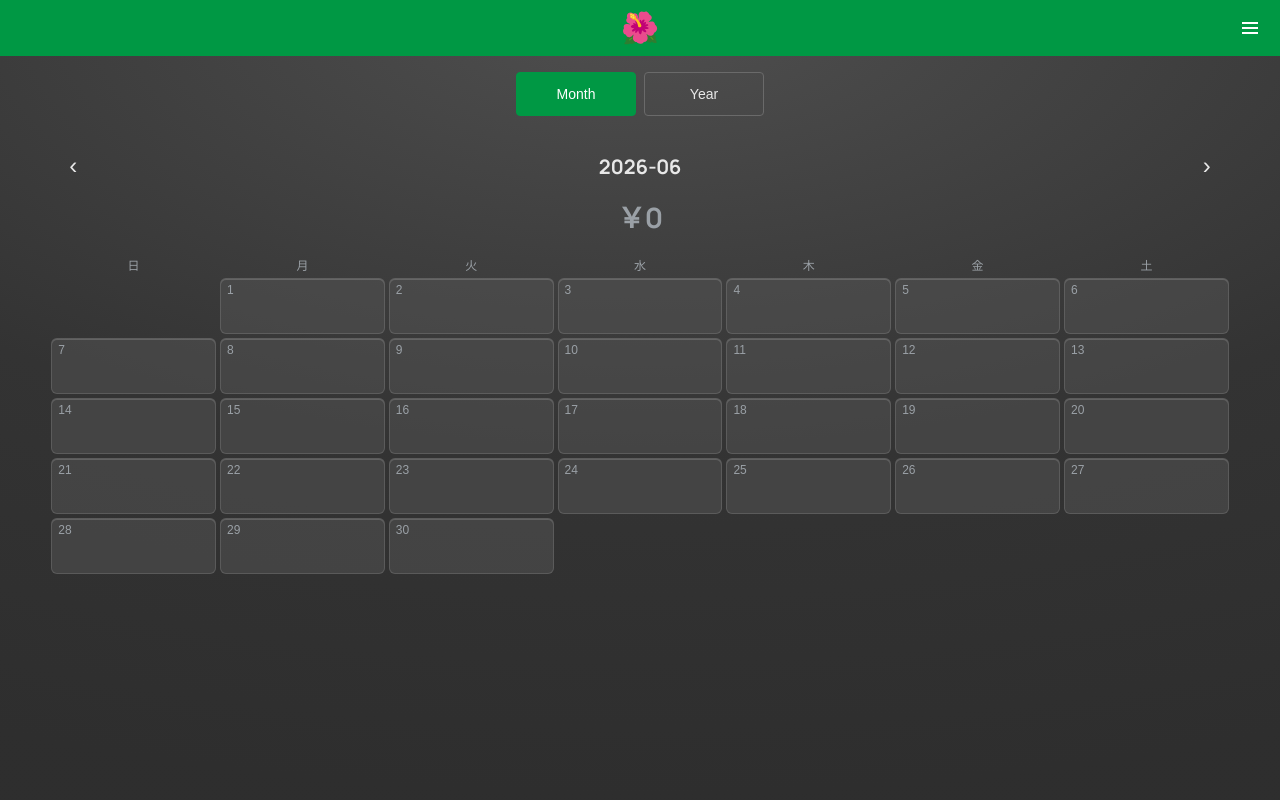
カレンダー（月）ビュー › 次の月・前の月でその月へ移動する
This screenshot has width=1280, height=800.
Click the button named "次の月".
click(1207, 166)  # box x1=1185 y1=144 x2=1229 y2=188
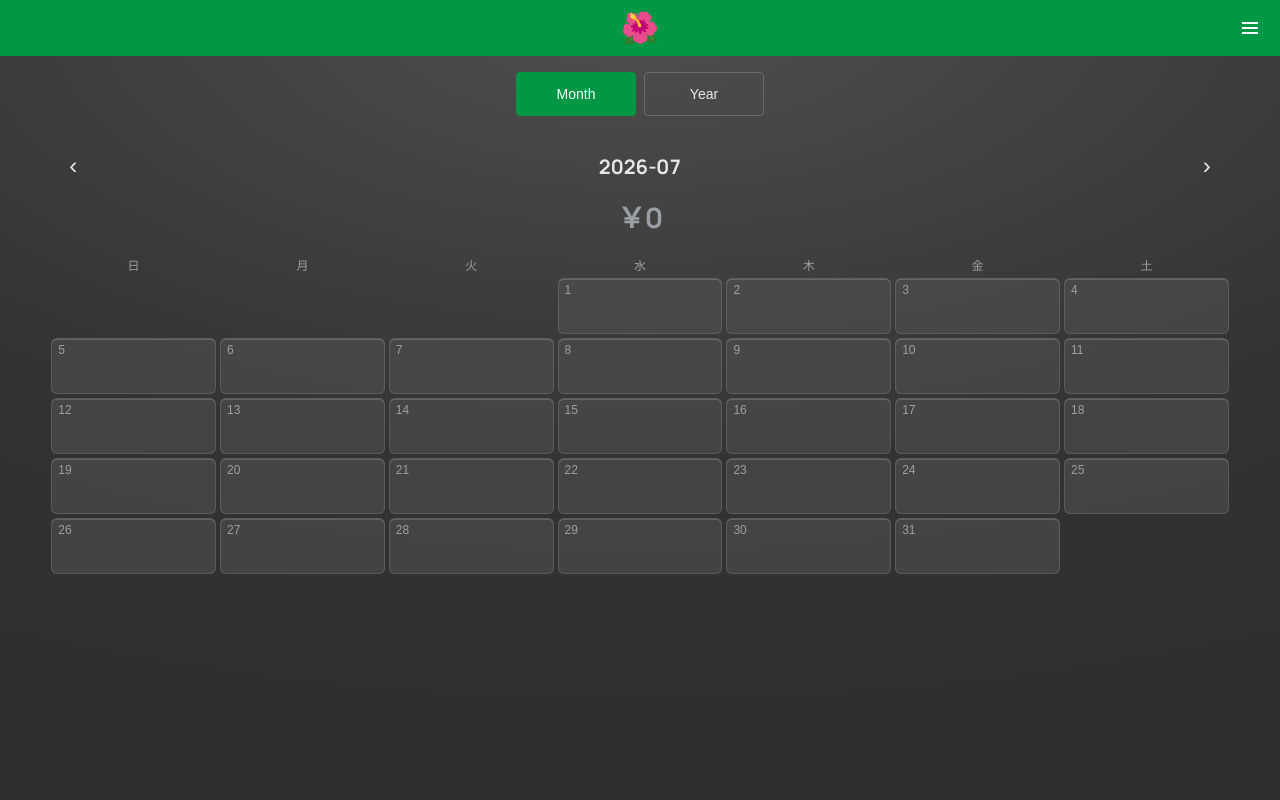
Click the button named "前の月".
click(73, 166)  # box x1=51 y1=144 x2=95 y2=188
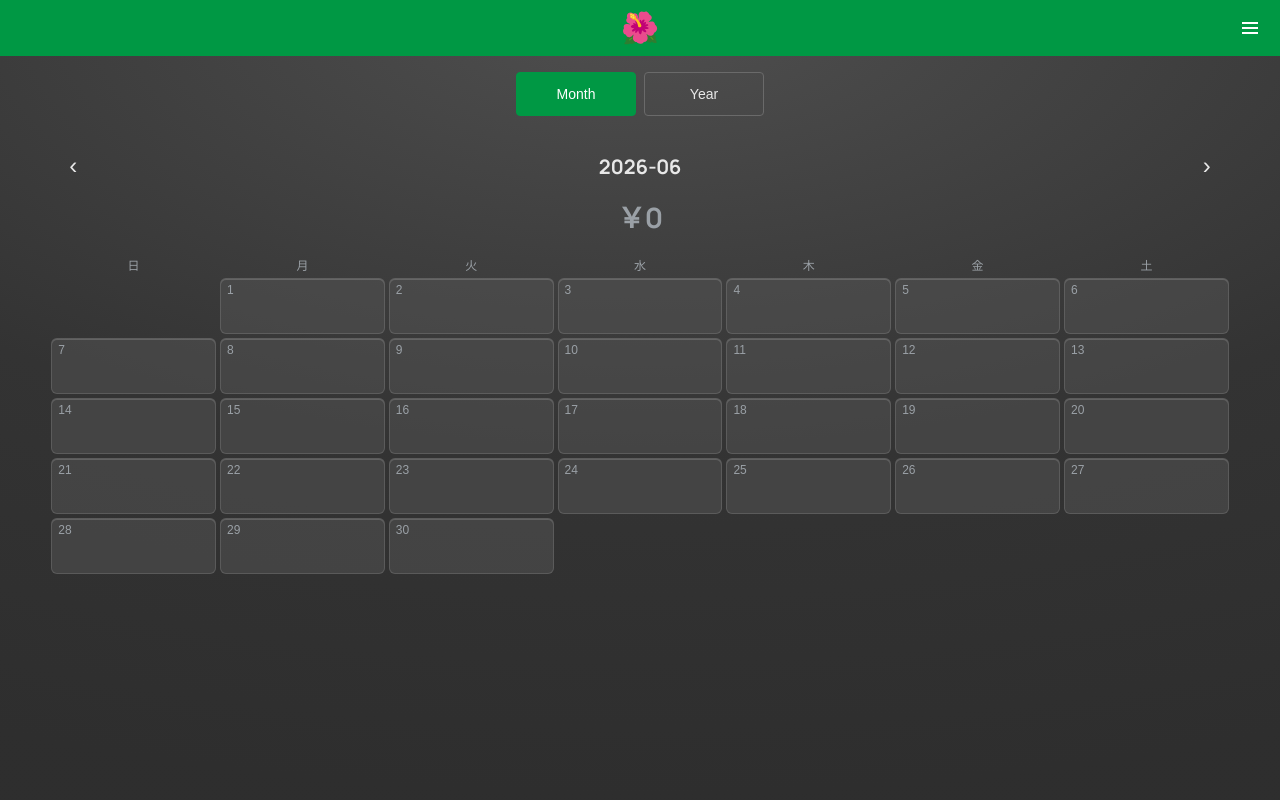
expect the text "2026-06" is shown: met, box x1=599 y1=152 x2=681 y2=180
